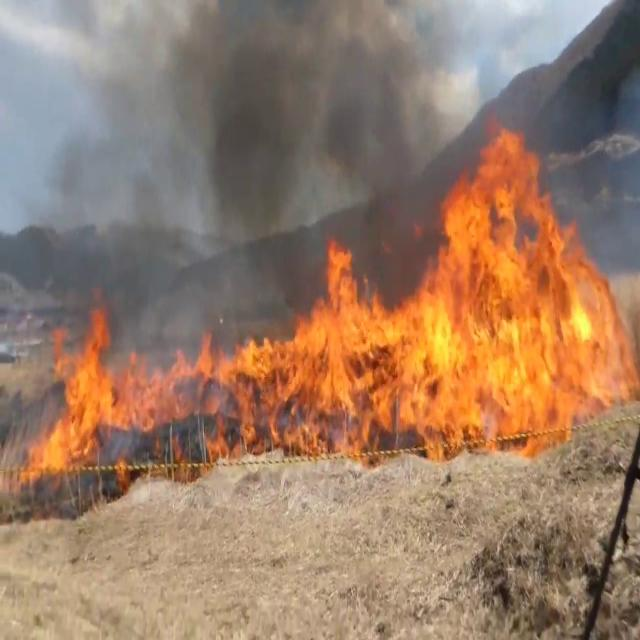Fire: (25, 253, 442, 463), (422, 116, 634, 433)
Smoke: (16, 0, 559, 322)
